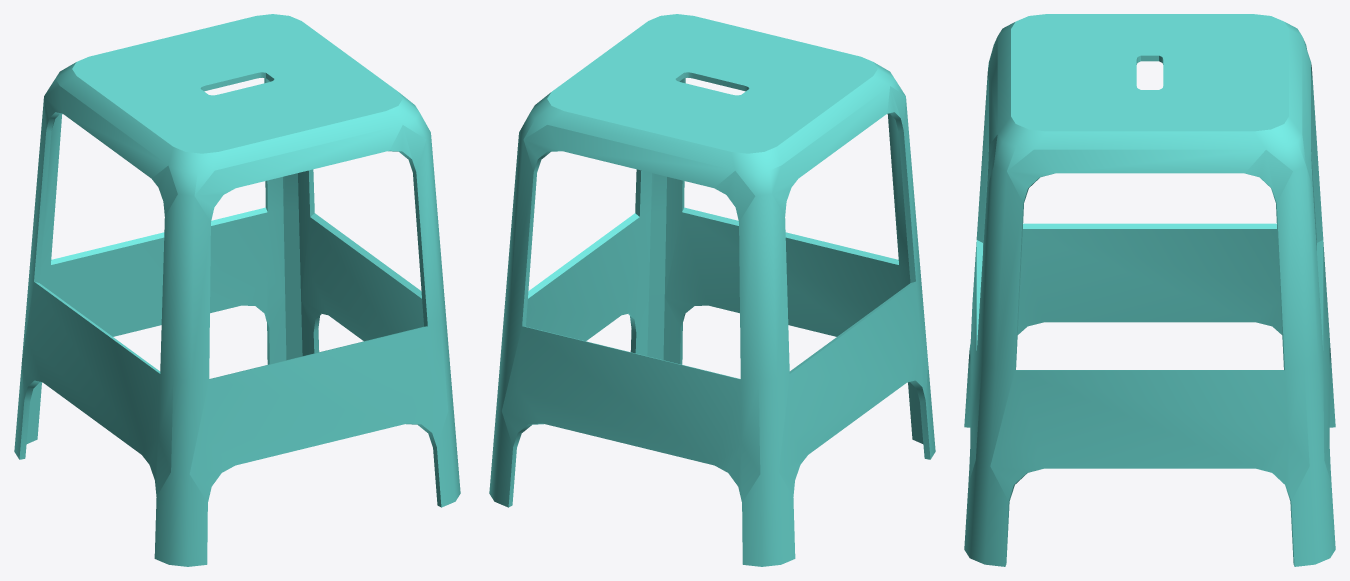
Rendered from Taburete_Azul.fbx.
The picture shows the model from 3 angles, left to right: view 1: azimuth 30°, elevation 25°; view 2: azimuth 150°, elevation 25°; view 3: azimuth 270°, elevation 25°; orthographic projection. The views are drawn at different scales.
Visible parts, largest first — view 1: Taburete; view 2: Taburete; view 3: Taburete.
Boxes of the visible parts, bbox=[...] form: Taburete: bbox=[14, 14, 460, 566]; Taburete: bbox=[489, 14, 935, 566]; Taburete: bbox=[964, 14, 1335, 566].
Size of the model in its own units: 231 by 285 by 231.
